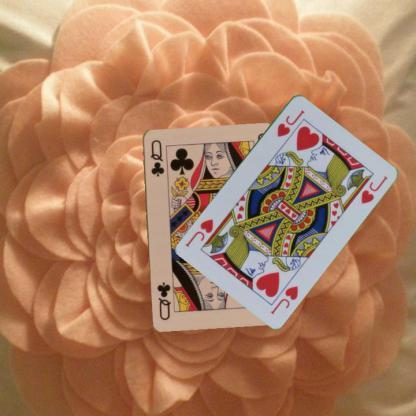Jh: (268, 282, 300, 315), (274, 106, 306, 138)
Qc: (148, 136, 166, 178)
